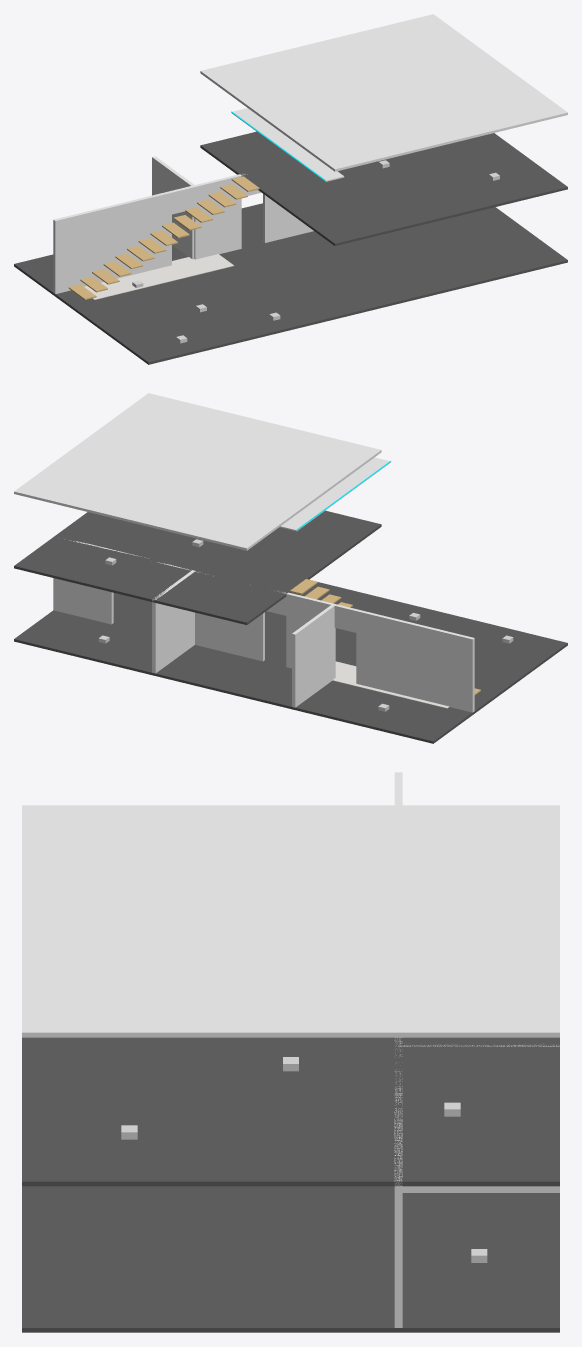
The model's file is office.glb.
3 renders of one model, top to bottom at view 1: azimuth 30°, elevation 25°; view 2: azimuth 150°, elevation 25°; view 3: azimuth 270°, elevation 25°, orthographic. The views are drawn at different scales.
Visible parts, largest first — view 1: floor_ground, ceiling_mezzanine, floor_upper, wall_front_rooms_1, wall_front_rooms_2, floor_gravel, ceiling_false_strip, wall_room_div_1, wall_front_rooms_3, wall_front_rooms_above_sr; view 2: ceiling_mezzanine, floor_ground, floor_upper, wall_front_rooms_1, wall_room_div_1, wall_front_rooms_3, wall_room_div_2, wall_front_rooms_4, ceiling_false_strip, wall_front_rooms_2, floor_gravel, wall_front_rooms_above_sr; view 3: ceiling_mezzanine, floor_upper, floor_ground, wall_front_rooms_4, wall_room_div_2.
Boxes of the visible parts, left/top/right/bottom form: floor_ground: left=14, top=203, right=567, bottom=364; ceiling_mezzanine: left=200, top=14, right=567, bottom=171; floor_upper: left=200, top=131, right=567, bottom=245; wall_front_rooms_1: left=53, top=191, right=171, bottom=293; wall_front_rooms_2: left=194, top=174, right=241, bottom=259; floor_gravel: left=84, top=254, right=234, bottom=299; ceiling_false_strip: left=231, top=108, right=344, bottom=181; wall_room_div_1: left=152, top=156, right=194, bottom=259; wall_front_rooms_3: left=263, top=194, right=313, bottom=242; wall_front_rooms_above_sr: left=170, top=186, right=195, bottom=214; ceiling_mezzanine: left=14, top=393, right=381, bottom=550; floor_ground: left=14, top=582, right=567, bottom=743; floor_upper: left=14, top=510, right=381, bottom=624; wall_front_rooms_1: left=356, top=609, right=474, bottom=712; wall_room_div_1: left=292, top=605, right=335, bottom=707; wall_front_rooms_3: left=170, top=565, right=264, bottom=661; wall_room_div_2: left=152, top=570, right=195, bottom=673; wall_front_rooms_4: left=53, top=539, right=113, bottom=624; ceiling_false_strip: left=279, top=457, right=390, bottom=531; wall_front_rooms_2: left=286, top=592, right=334, bottom=668; floor_gravel: left=332, top=661, right=449, bottom=708; wall_front_rooms_above_sr: left=333, top=604, right=357, bottom=632; ceiling_mezzanine: left=22, top=805, right=559, bottom=1037; floor_upper: left=22, top=1037, right=559, bottom=1186; floor_ground: left=22, top=1186, right=559, bottom=1332; wall_front_rooms_4: left=394, top=1124, right=402, bottom=1327; wall_room_div_2: left=398, top=1045, right=559, bottom=1192.
Size of the model in its own units: 18 by 6.2 by 10.
